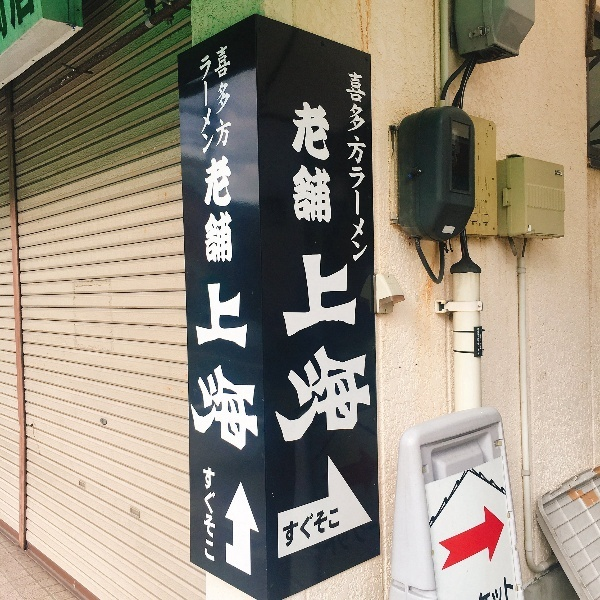text: (353, 71, 369, 264), (289, 251, 304, 449), (305, 251, 320, 449), (321, 251, 336, 449), (337, 251, 352, 449), (353, 251, 368, 449), (193, 282, 208, 460), (209, 282, 224, 460), (225, 282, 240, 460), (241, 282, 256, 460), (305, 102, 320, 226), (209, 155, 224, 266), (292, 102, 304, 226), (321, 102, 333, 226), (281, 251, 288, 449), (345, 71, 352, 264), (225, 155, 234, 266), (369, 251, 374, 449), (215, 43, 224, 149), (199, 53, 208, 155), (225, 43, 232, 149), (209, 466, 216, 563), (289, 505, 304, 549), (305, 505, 320, 549), (321, 505, 336, 549), (209, 53, 215, 155), (257, 282, 260, 460), (203, 466, 208, 563), (497, 570, 512, 600), (204, 155, 208, 266), (190, 282, 192, 460), (490, 570, 496, 600), (284, 505, 288, 549), (337, 505, 340, 549), (513, 570, 515, 600)
